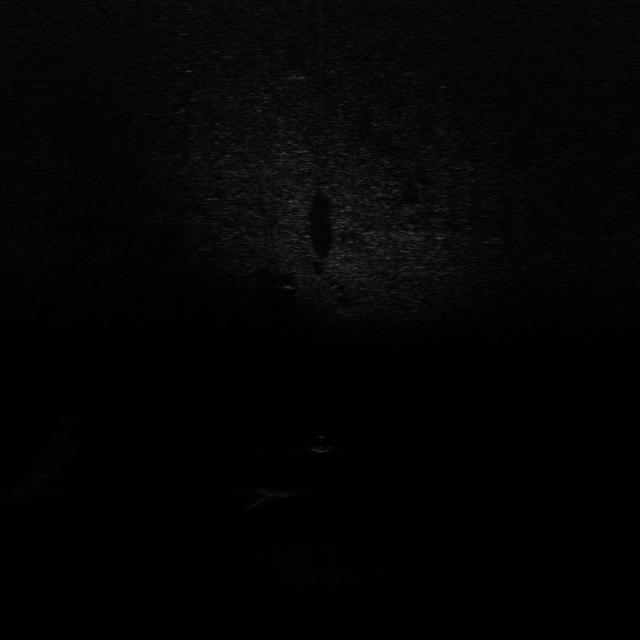ball: (309, 434, 337, 454)
square cage: (243, 483, 309, 502)
